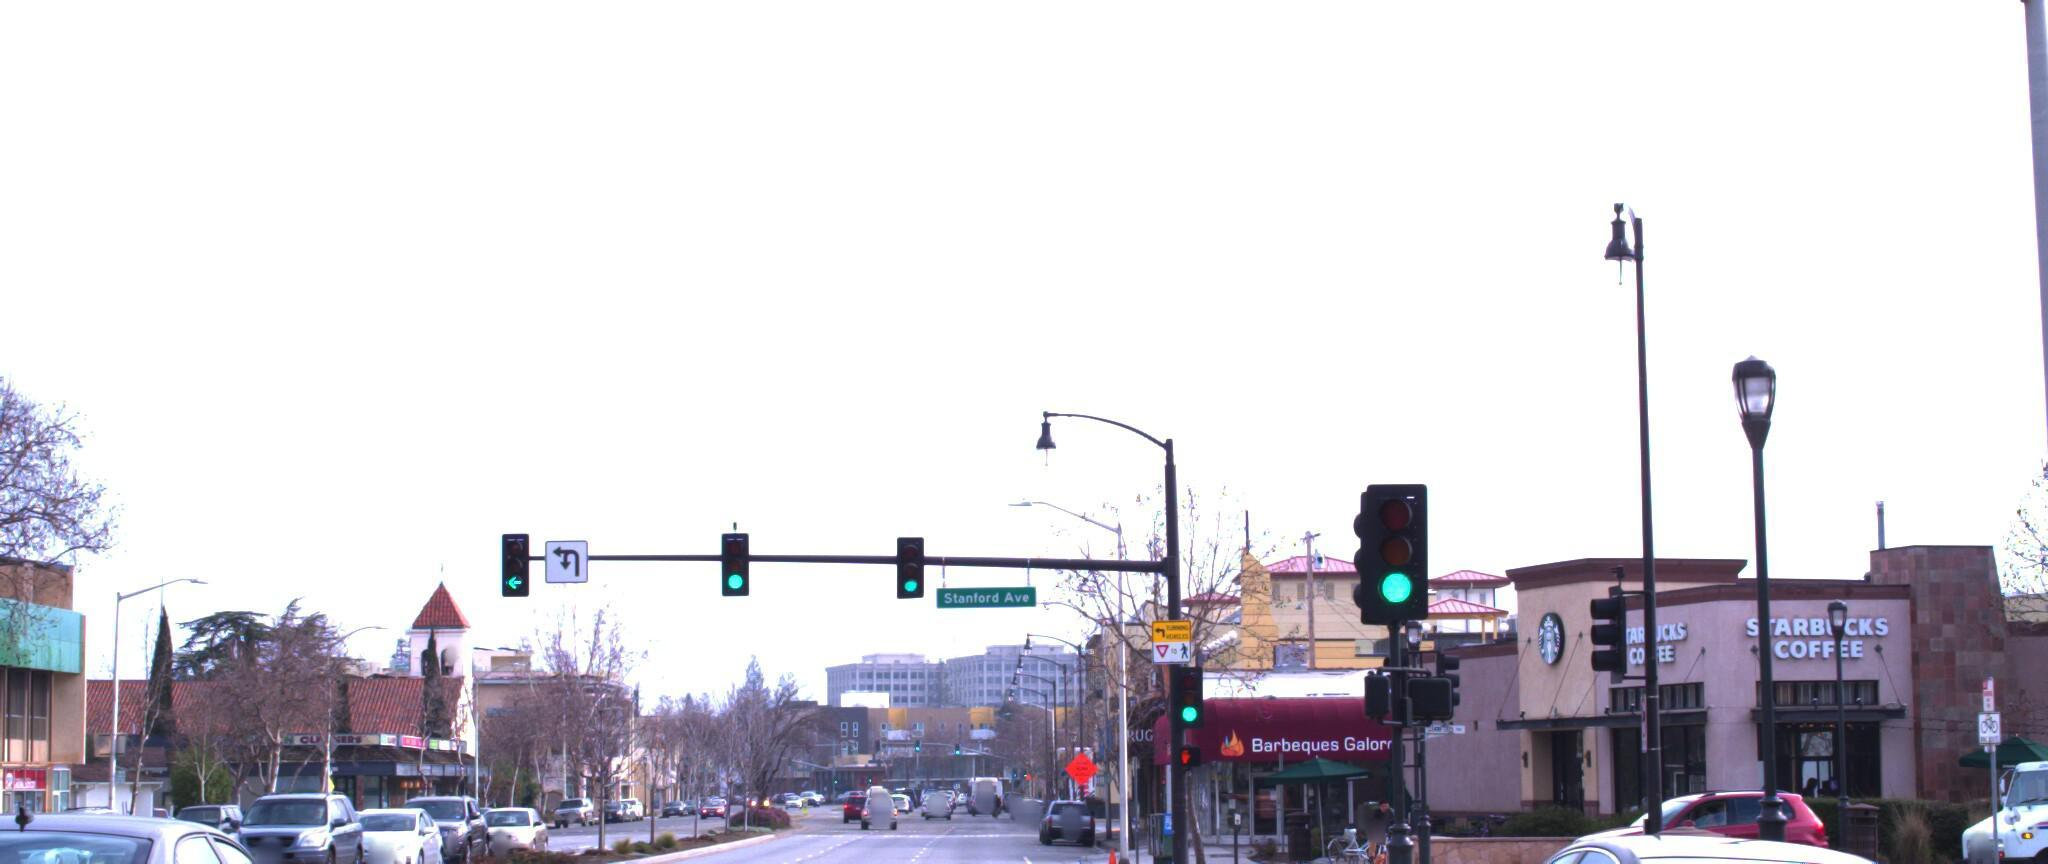car: (1381, 795, 2041, 864), (0, 777, 398, 864), (1537, 775, 1829, 864), (212, 764, 377, 864), (1693, 837, 2048, 864), (329, 780, 452, 857)
other_vehicle: (1923, 735, 2048, 864)
